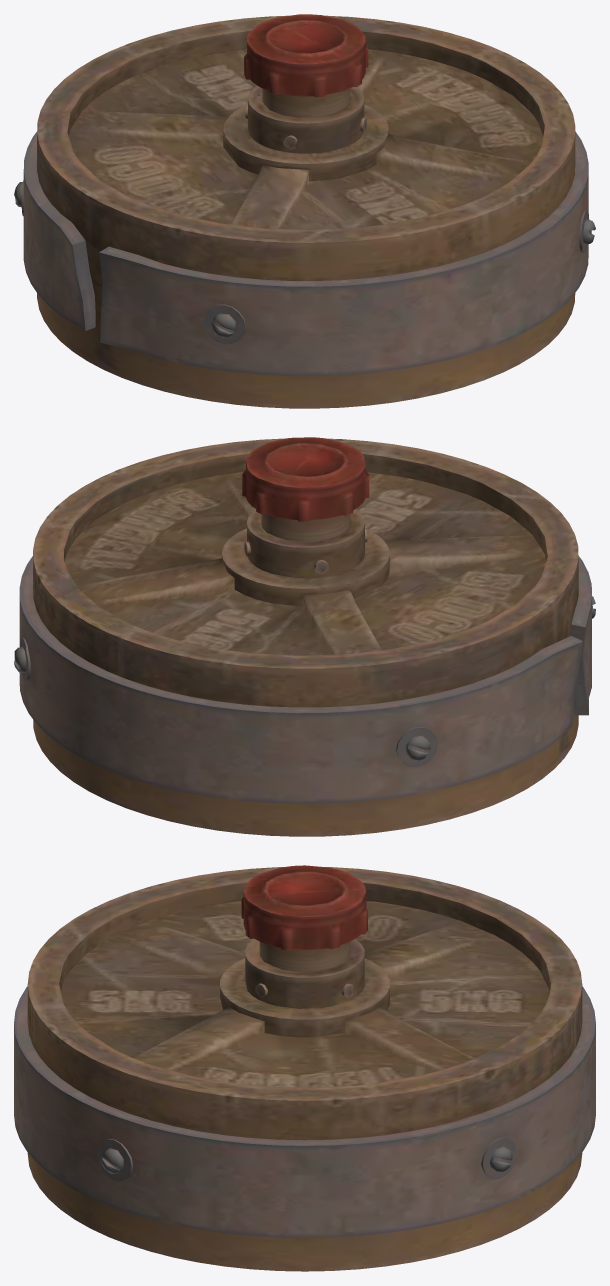
Rendered from v_landmine.glb.
3 views of the same model, one above another, from view 1: azimuth 30°, elevation 25°; view 2: azimuth 150°, elevation 25°; view 3: azimuth 270°, elevation 25° (orthographic). The views are drawn at different scales.
Visible parts, largest first — view 1: v_Landmine; view 2: v_Landmine; view 3: v_Landmine.
Part boxes in pixels (box(x1,y1,x2,y2)): v_Landmine: box(14, 14, 595, 408); v_Landmine: box(14, 437, 595, 836); v_Landmine: box(14, 865, 595, 1271).
Bounding box in the file's own units: 0.5069 × 0.2505 × 0.4979.
Materials: 1 (1 with a texture image).
